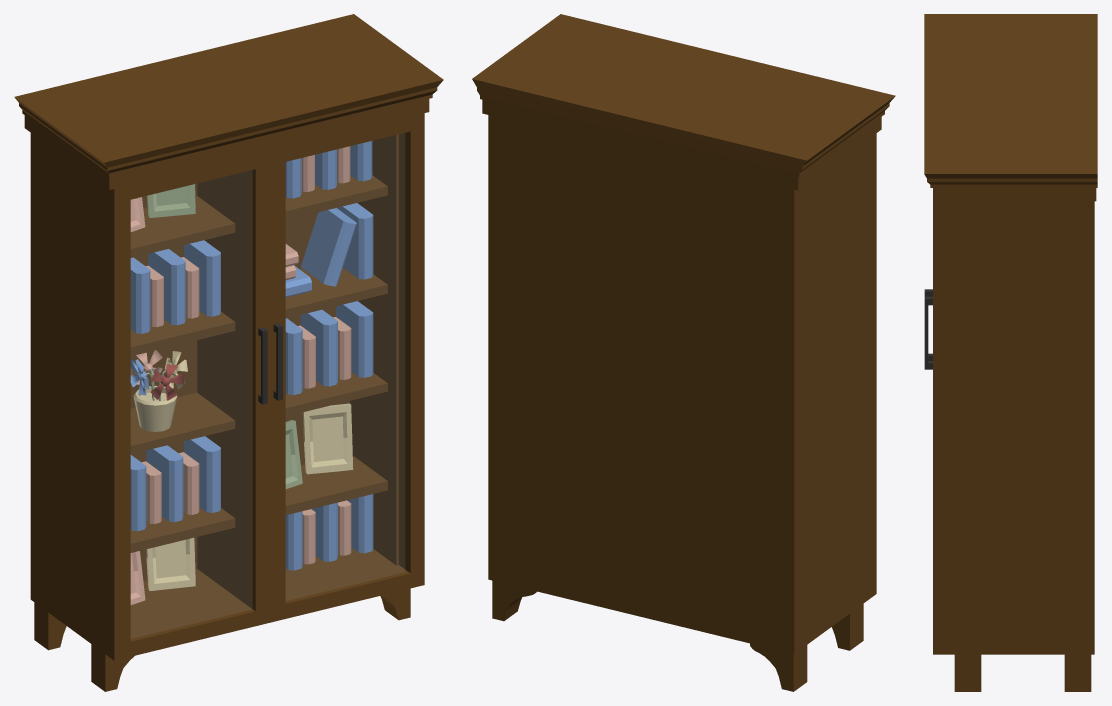
Rendered from geo_bookShelfClosed_01.fbx.
3 renders of one model, left to right at view 1: azimuth 30°, elevation 25°; view 2: azimuth 150°, elevation 25°; view 3: azimuth 270°, elevation 25°, orthographic. The views are drawn at different scales.
Parts seen in each view (by area): view 1: geo_BookShelves, geo_doorGlassLeft, geo_doorGlassRight, geo_doorLeft, geo_DoorRight, geo_book_01 (×3), geo_photoframe_45, geo_book_025, geo_book_03 (×2), geo_photoframe_43, geo_book_05 (×2), geo_book_021 (+23 smaller); view 2: geo_BookShelves, geo_doorLeft, geo_BookShelfLeg_2, geo_BookShelfLeg_3, geo_BookShelfLeg_1; view 3: geo_BookShelves, geo_DoorRight, geo_BookShelfLeg_4, geo_BookShelfLeg_3, geo_DoorHandleRight.
Boxes of the visible parts, bbox=[...] form: geo_BookShelves: bbox=[14, 14, 443, 651]; geo_doorGlassLeft: bbox=[131, 170, 251, 638]; geo_doorGlassRight: bbox=[286, 133, 404, 600]; geo_doorLeft: bbox=[102, 151, 269, 660]; geo_DoorRight: bbox=[269, 113, 424, 622]; geo_book_01 (×3): bbox=[184, 141, 372, 512]; geo_photoframe_45: bbox=[302, 403, 353, 474]; geo_book_025: bbox=[301, 208, 356, 286]; geo_book_03 (×2): bbox=[148, 149, 336, 325]; geo_photoframe_43: bbox=[146, 537, 195, 590]; geo_book_05 (×2): bbox=[130, 158, 301, 333]; geo_book_021: bbox=[336, 301, 373, 377]; geo_BookShelves: bbox=[472, 14, 895, 653]; geo_doorLeft: bbox=[865, 133, 876, 601]; geo_BookShelfLeg_2: bbox=[750, 643, 807, 691]; geo_BookShelfLeg_3: bbox=[492, 580, 536, 621]; geo_BookShelfLeg_1: bbox=[832, 604, 863, 650]; geo_BookShelves: bbox=[924, 14, 1097, 654]; geo_DoorRight: bbox=[933, 201, 956, 654]; geo_BookShelfLeg_4: bbox=[954, 654, 981, 691]; geo_BookShelfLeg_3: bbox=[1064, 654, 1091, 691]; geo_DoorHandleRight: bbox=[924, 296, 932, 369].
Size of the model in its own units: 92.88 by 142 by 42.56.
